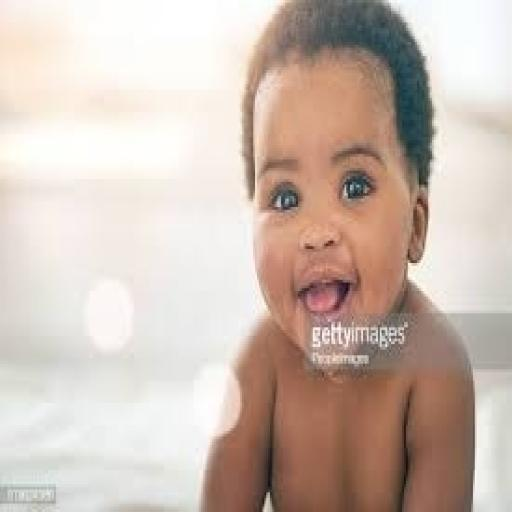laughing: (190, 0, 478, 509)
